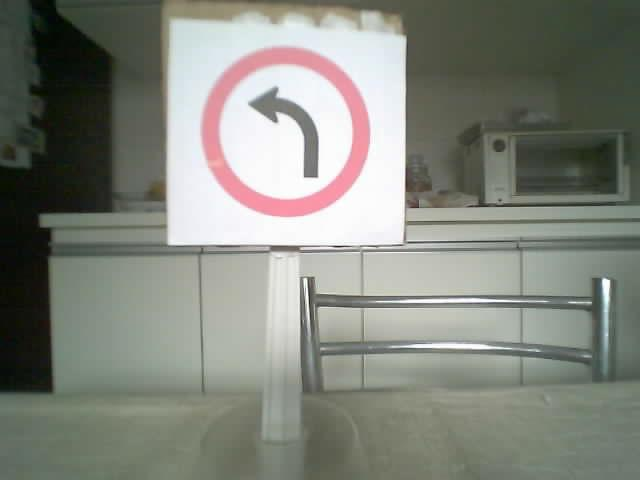R-25a_esquerda: (199, 45, 370, 218)
